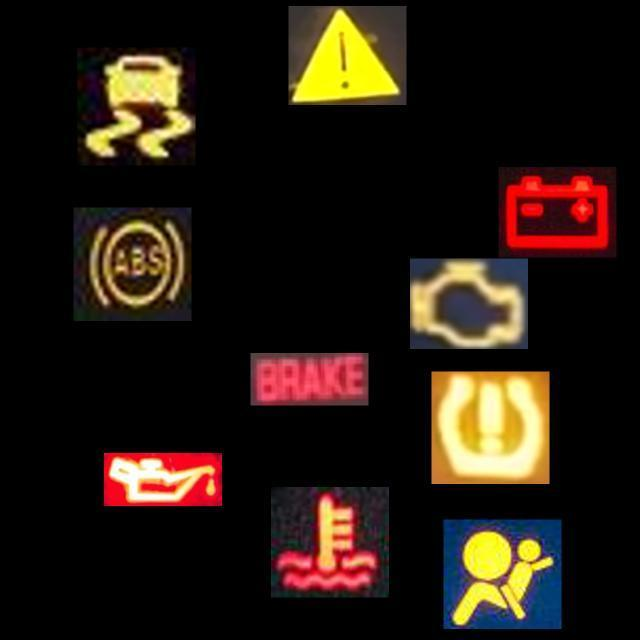Central Warning lamp: (288, 6, 406, 105)
Engine cooling system: (271, 487, 389, 597)
